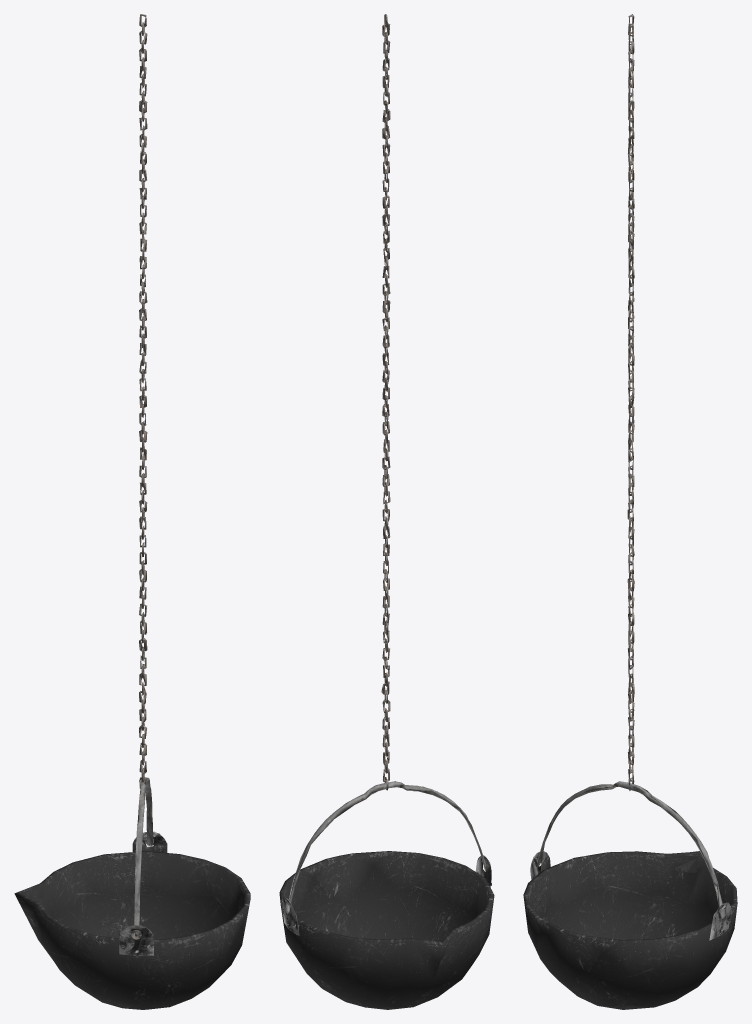
File: kit_caldero.glb
3 views of the same model, side by side, from view 1: azimuth 30°, elevation 25°; view 2: azimuth 150°, elevation 25°; view 3: azimuth 270°, elevation 25° (orthographic).
Visible parts, largest first — view 1: caldero.001, cadena.001, manija_caldero.001; view 2: caldero.001, cadena.001, manija_caldero.001; view 3: caldero.001, cadena.001, manija_caldero.001.
Part boxes in pixels (bbox=[...]): caldero.001: bbox=[14, 831, 250, 1009]; cadena.001: bbox=[139, 14, 147, 788]; manija_caldero.001: bbox=[131, 777, 153, 939]; caldero.001: bbox=[279, 851, 494, 1009]; cadena.001: bbox=[381, 14, 390, 790]; manija_caldero.001: bbox=[285, 781, 485, 913]; caldero.001: bbox=[523, 851, 737, 1009]; cadena.001: bbox=[627, 14, 634, 790]; manija_caldero.001: bbox=[536, 781, 725, 918].
Bounding box in the file's own units: 0.2959 × 1.5 × 0.2951.
Materials: 4 (4 with a texture image).
